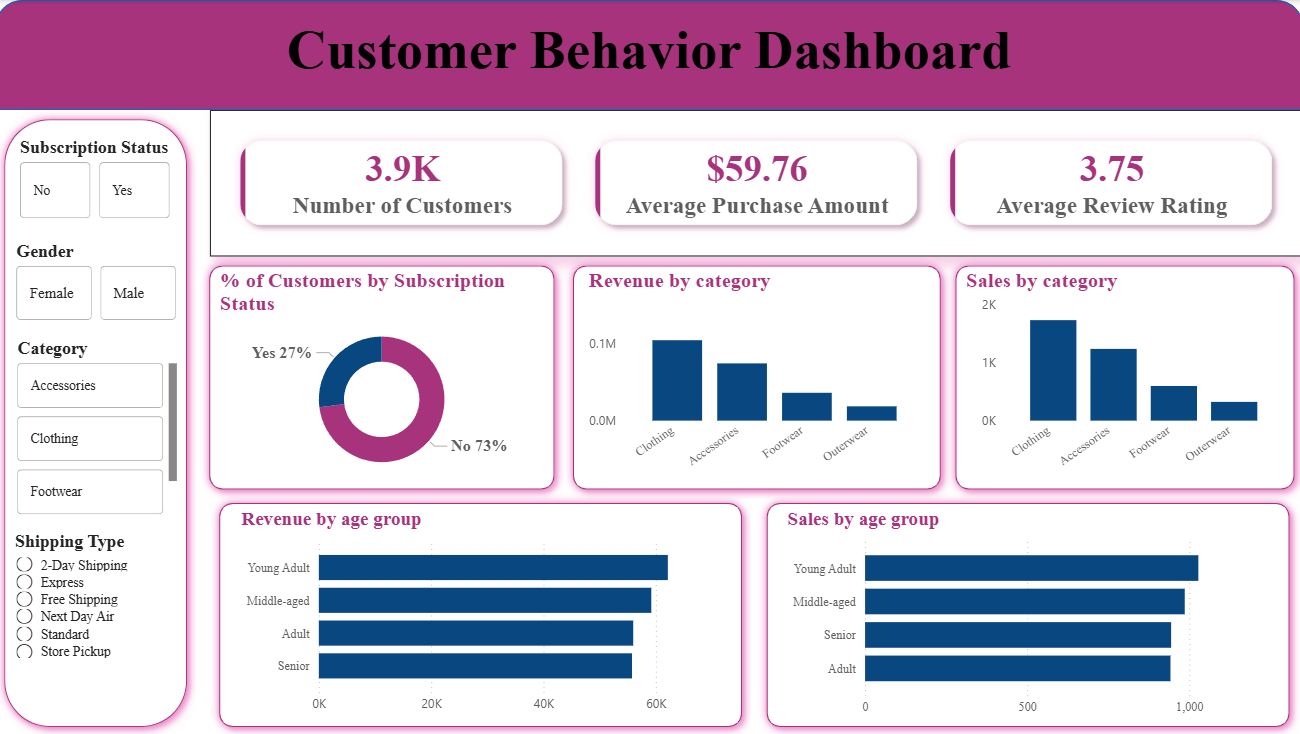

The dashboard page shown, as its layout file describes it:
{"tool":"powerbi","page":{"name":"Page 1","canvas":[1280,720],"ordinal":0},"visuals":[{"type":"cardVisual","fields":{"Data":["public customer.Number of Customers","public customer.Average Purchase Amount","public customer.Average Review Rating"]},"box":[210.3,107.6,1070,143.1],"z":0},{"type":"shape","box":[0,0,1280.3,107.6],"z":1000},{"type":"textbox","box":[0,13.5,1280.3,94.2],"z":2000},{"type":"shape","box":[200.5,250.7,355.8,237.2],"z":3000},{"type":"donutChart","title":"% of Customers by Subscription Status","fields":{"Category":["public customer.subscription_status"],"Y":["Count(public customer.customer_id)"]},"box":[215.2,262.9,326.5,212.8],"z":4000},{"type":"shape","box":[556.4,250.7,377.9,237.2],"z":5000},{"type":"shape","box":[930.6,250.7,349.7,237.2],"z":6000},{"type":"clusteredColumnChart","title":"Revenue by category","fields":{"Y":["Sum(public customer.purchase_amount)"],"Category":["public customer.category"]},"box":[576,262.9,338.7,212.8],"z":7000},{"type":"clusteredColumnChart","title":"Sales by category","fields":{"Y":["CountNonNull(public customer.customer_id)"],"Category":["public customer.category"]},"box":[945.2,262.9,320.4,212.8],"z":8000},{"type":"shape","box":[0,107.6,196.9,612.6],"z":9000},{"type":"advancedSlicerVisual","title":"Subscription Status","fields":{"Values":["public customer.subscription_status"]},"box":[19.6,134.5,157.7,84.4],"z":10000},{"type":"advancedSlicerVisual","title":"Gender","fields":{"Values":["public customer.gender"]},"box":[15.9,236,167.5,83.2],"z":11000},{"type":"advancedSlicerVisual","title":"Category","fields":{"Values":["public customer.category"]},"box":[17.1,331.4,166.3,178.5],"z":12000},{"type":"listSlicer","title":"Shipping Type","fields":{"Values":["public customer.shipping_type"]},"box":[14.7,519.7,162.6,166.3],"z":13000},{"type":"shape","box":[210.3,483,529.5,237.2],"z":13001},{"type":"shape","box":[745.9,483,529.5,237.2],"z":13003},{"type":"clusteredBarChart","title":"Revenue by age group","fields":{"Y":["Sum(public customer.purchase_amount)"],"Category":["public customer.age_group"]},"box":[236,496.5,480.6,210.3],"z":13004},{"type":"clusteredBarChart","title":"Sales by age group","fields":{"Category":["public customer.age_group"],"Y":["CountNonNull(public customer.customer_id)"]},"box":[770.4,496.5,480.6,210.3],"z":13005}]}

Visuals, with their boxes in screenshot pixels (x1, y1, x2, y2), scaled from the page's 1280x720 canvas onto the 1300x734 screenshot:
cardVisual - public customer.Number of Customers x public customer.Average Purchase Amount: left=214, top=110, right=1299, bottom=256
shape: left=0, top=0, right=1299, bottom=110
textbox: left=0, top=14, right=1299, bottom=110
shape: left=204, top=256, right=565, bottom=497
"% of Customers by Subscription Status" donutChart: left=219, top=268, right=550, bottom=485
shape: left=565, top=256, right=949, bottom=497
shape: left=945, top=256, right=1299, bottom=497
"Revenue by category" clusteredColumnChart: left=585, top=268, right=929, bottom=485
"Sales by category" clusteredColumnChart: left=960, top=268, right=1285, bottom=485
shape: left=0, top=110, right=200, bottom=733
"Subscription Status" advancedSlicerVisual: left=20, top=137, right=180, bottom=223
"Gender" advancedSlicerVisual: left=16, top=241, right=186, bottom=325
"Category" advancedSlicerVisual: left=17, top=338, right=186, bottom=520
"Shipping Type" listSlicer: left=15, top=530, right=180, bottom=699
shape: left=214, top=492, right=751, bottom=733
shape: left=758, top=492, right=1295, bottom=733
"Revenue by age group" clusteredBarChart: left=240, top=506, right=728, bottom=721
"Sales by age group" clusteredBarChart: left=782, top=506, right=1271, bottom=721
